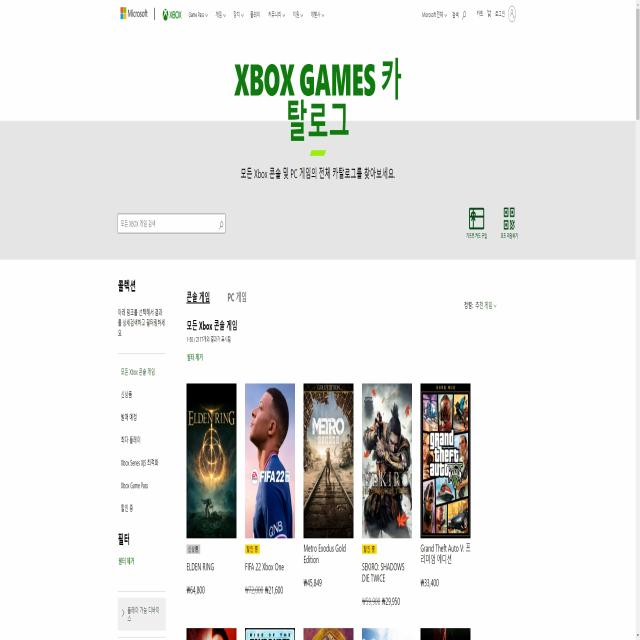menu-bar: (420, 6, 518, 25)
menu-panel: (112, 270, 170, 639)
search: (116, 210, 227, 235)
tab-bar: (120, 2, 328, 25), (461, 195, 524, 248), (185, 282, 250, 314)
